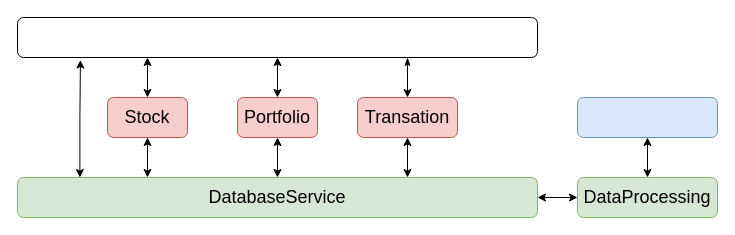
Image size: 735x235. Some labels were removed from this diagram. The centre of each missing label's shape, as x and y in pixels:
"Database" belongs at pixel 277 37.
"StockAPI" belongs at pixel 647 117.
